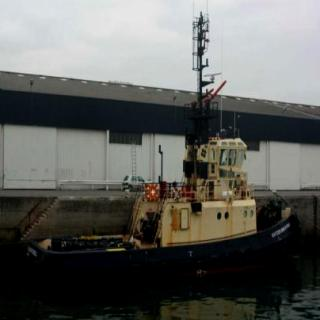Tug Boat: (0, 68, 308, 287)
